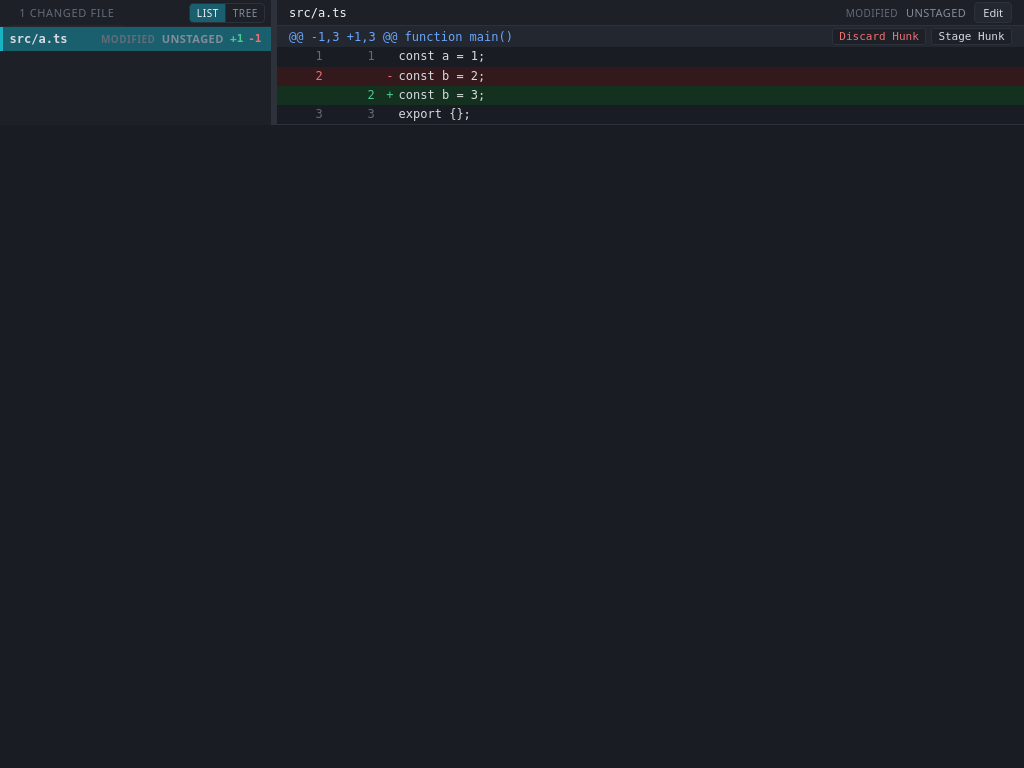
Test: per-hunk actions › cancelling discards nothing and closes the question
Click the button with aria-label "Discard Hunk of src/a.ts": (879, 37) [832,28,926,45]
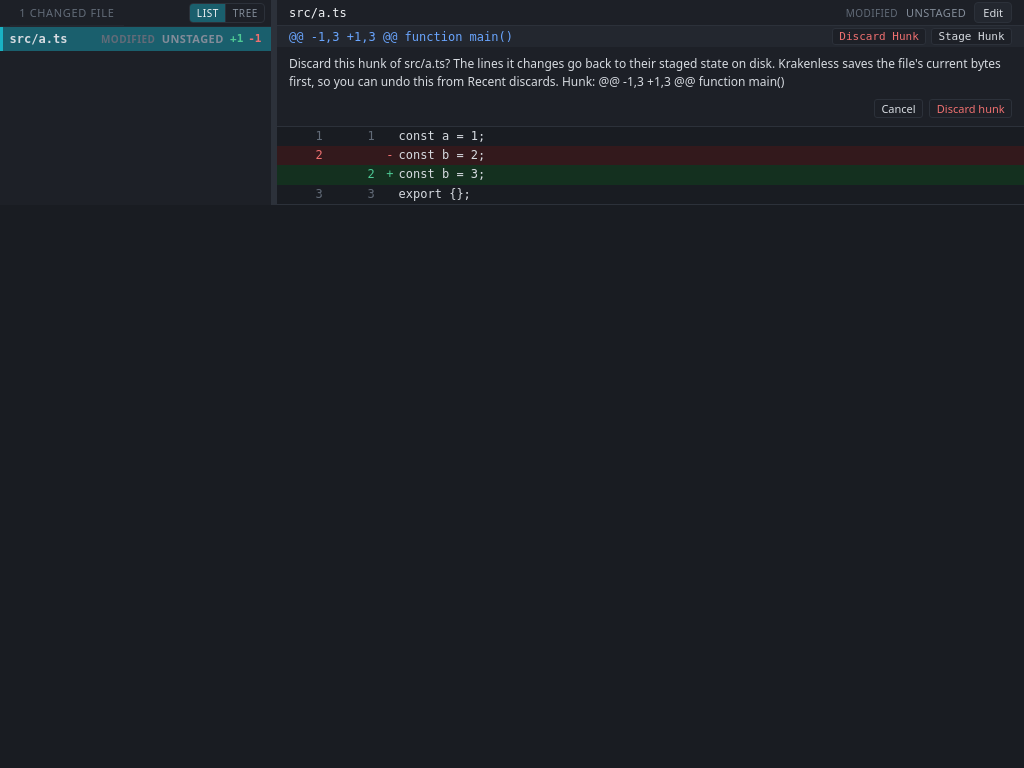
Click the button "Cancel": (898, 109) [874,99,923,118]
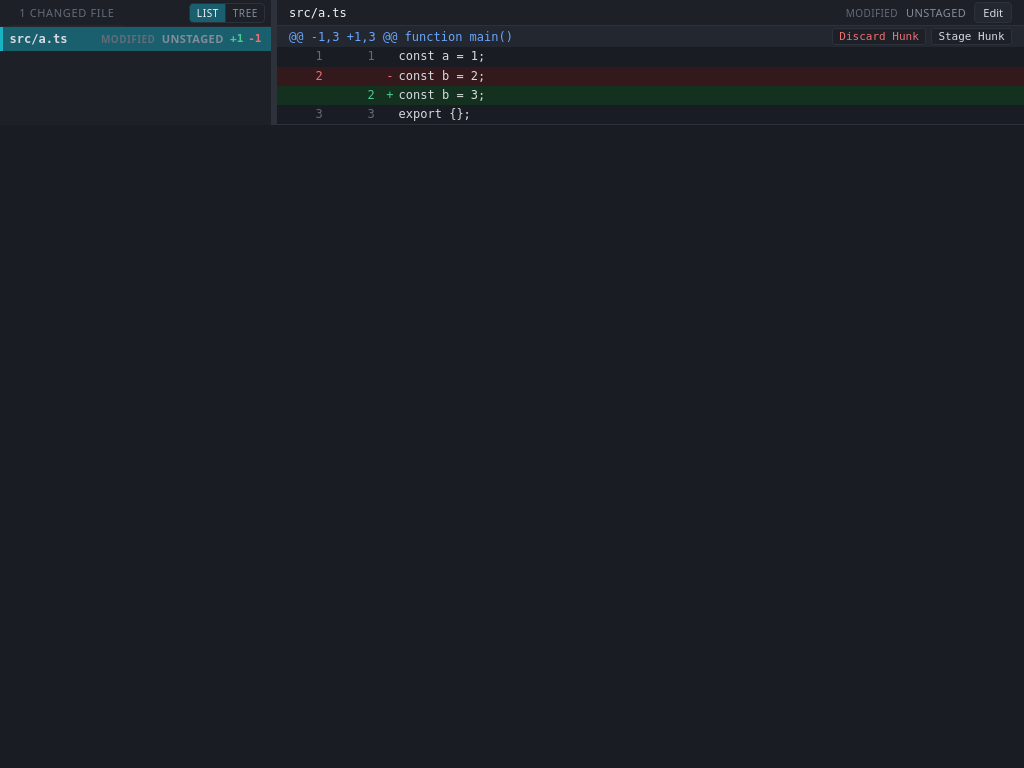
Now the dialog is gone
